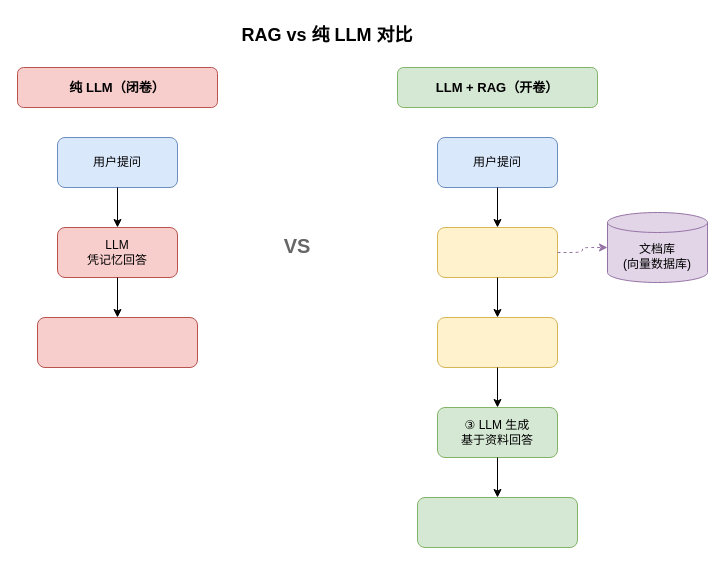
The diagram is 725 pixels wide and 565 high, and some of its shapes have lost their labels. Each missing label, with the centre of its shape:
"① 检索 从文档库找资料" belongs at (x=497, y=252).
"② 增强 拼接 Prompt" belongs at (x=497, y=342).
"可溯源 ✅ 引用真实文件" belongs at (x=497, y=522).
"可能幻觉 ❌ 编造法规条文" belongs at (x=117, y=342).
